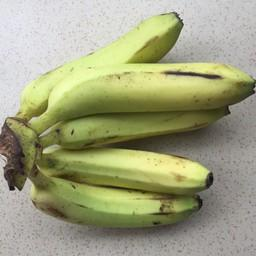Good_banana: (25, 11, 251, 237)
